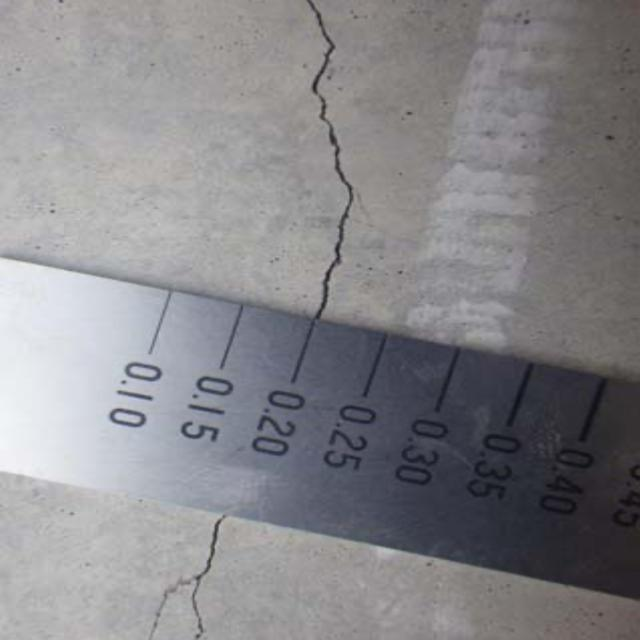crack: (294, 3, 376, 314), (150, 497, 240, 640)
